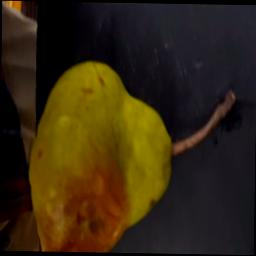Pear Rotten: (11, 43, 186, 256)
